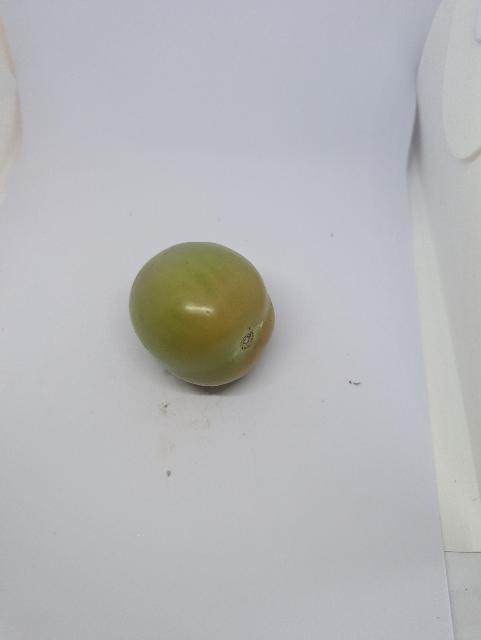green: (120, 236, 284, 393)
